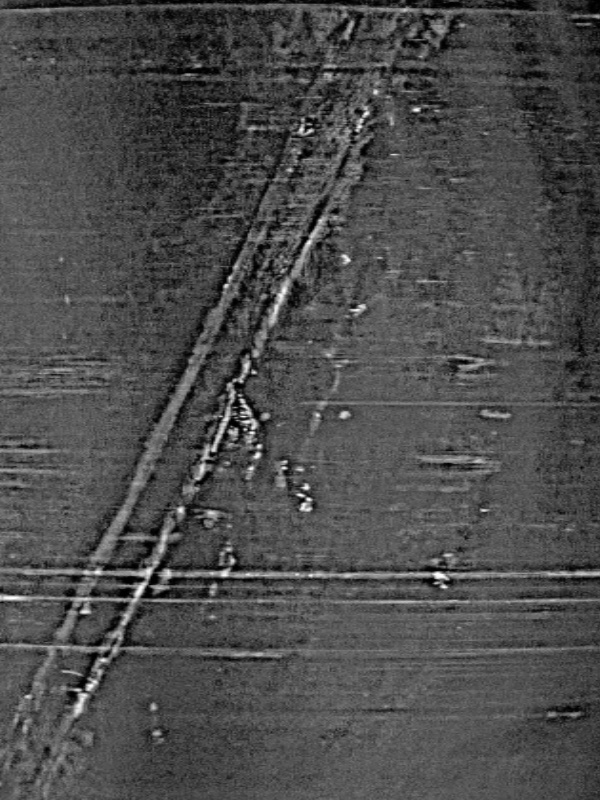splice_vulcanized: (1, 11, 435, 798)
